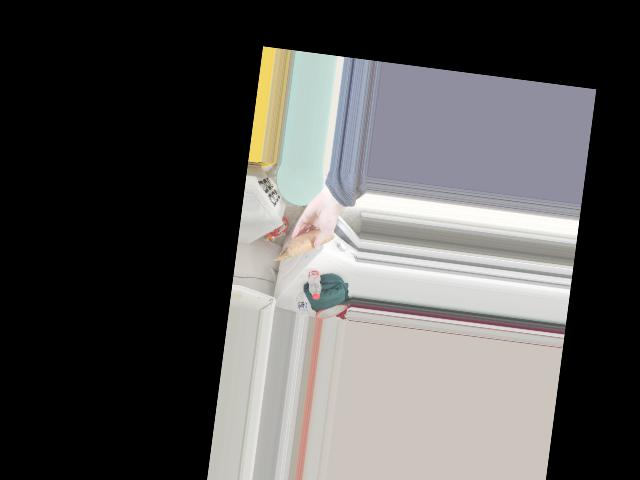sweet_potato: (290, 228, 328, 257)
